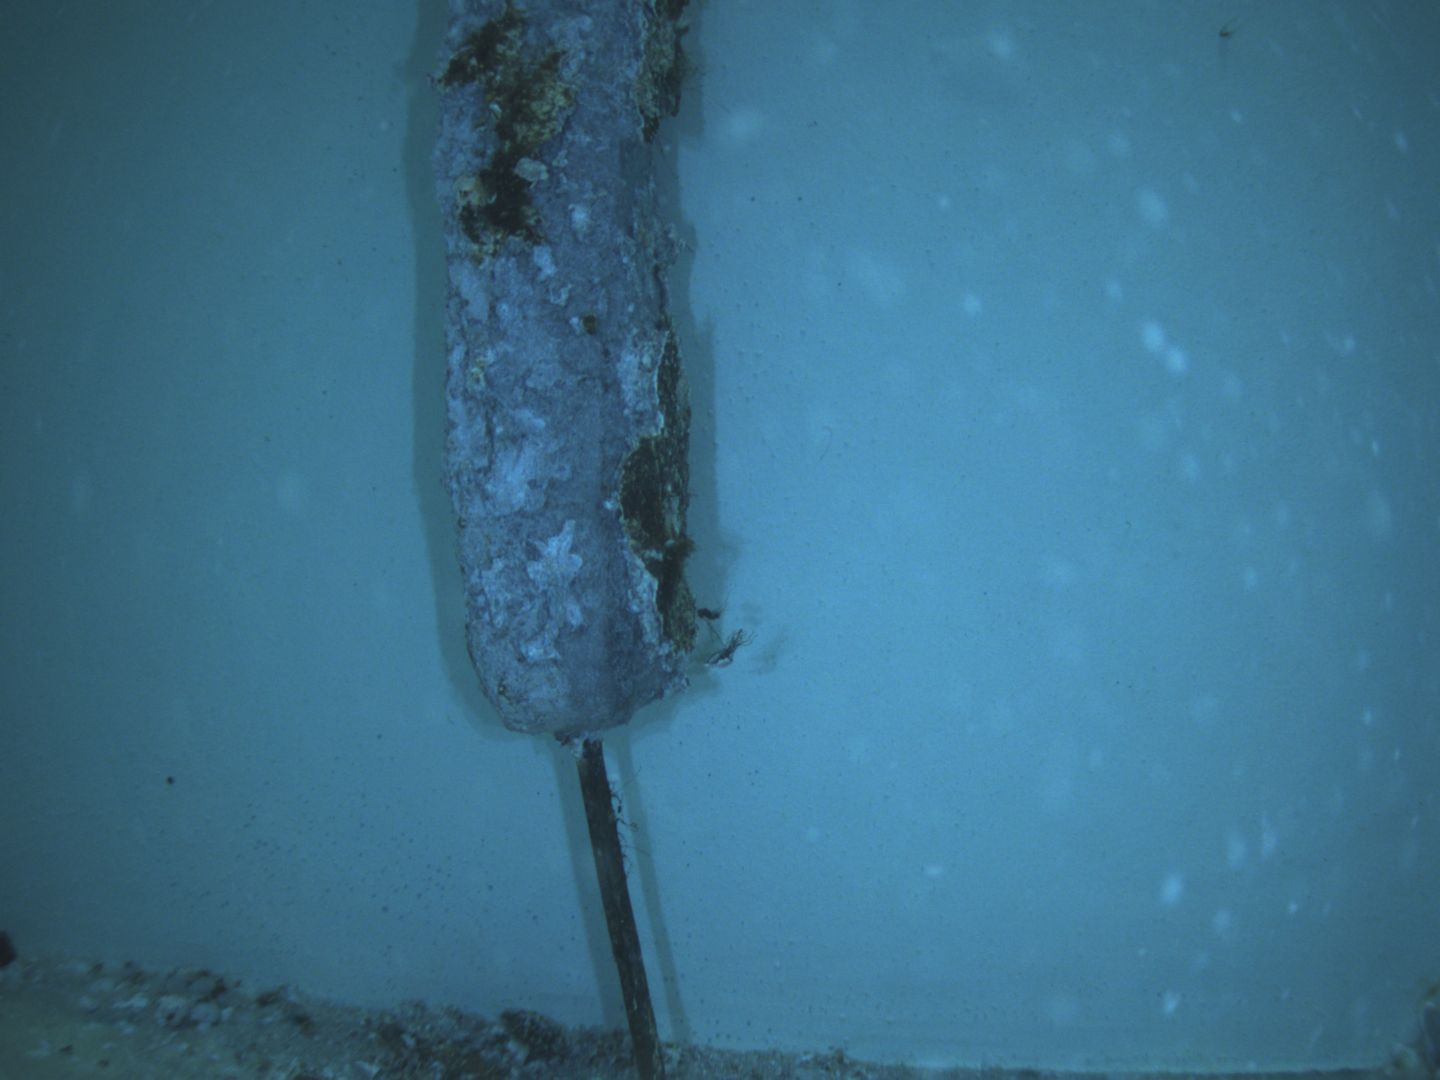anode: (432, 0, 701, 1080)
